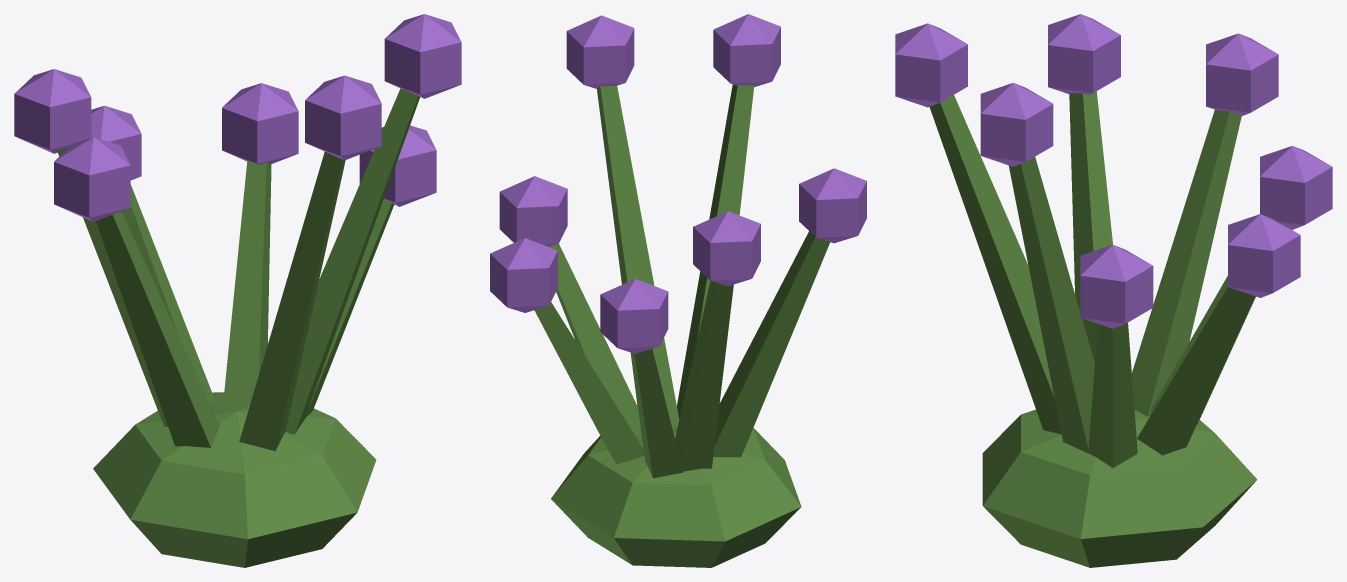
Rendered from herb.glb.
3 renders of one model, left to right at view 1: azimuth 30°, elevation 25°; view 2: azimuth 150°, elevation 25°; view 3: azimuth 270°, elevation 25°, orthographic. The views are drawn at different scales.
Visible parts, largest first — view 1: herb; view 2: herb; view 3: herb.
Boxes of the visible parts, x1,y1,x2,y2 form: herb: (14,14,461,567); herb: (490,14,866,567); herb: (895,14,1332,567).
Bounding box in the file's own units: 0.4314 × 0.5687 × 0.4236.
